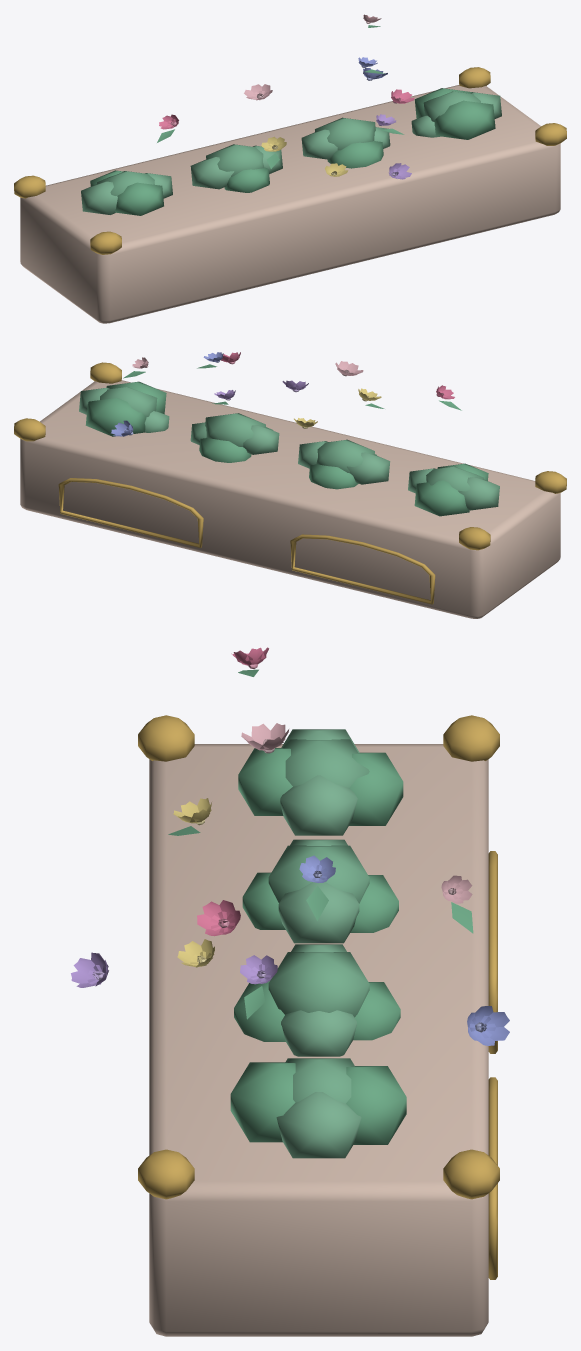
The model's file is planter_box.glb.
The picture shows the model from 3 angles, top to bottom: view 1: azimuth 30°, elevation 25°; view 2: azimuth 150°, elevation 25°; view 3: azimuth 270°, elevation 25°; orthographic projection. The views are drawn at different scales.
Visible parts, largest first — view 1: planter_box; view 2: planter_box; view 3: planter_box.
Boxes of the visible parts, <box> form: planter_box: <box>14,14,566,323</box>; planter_box: <box>14,352,566,618</box>; planter_box: <box>71,647,509,1336</box>.
Size of what is drawn, in the model's own units: 2 by 0.7 by 0.8.
